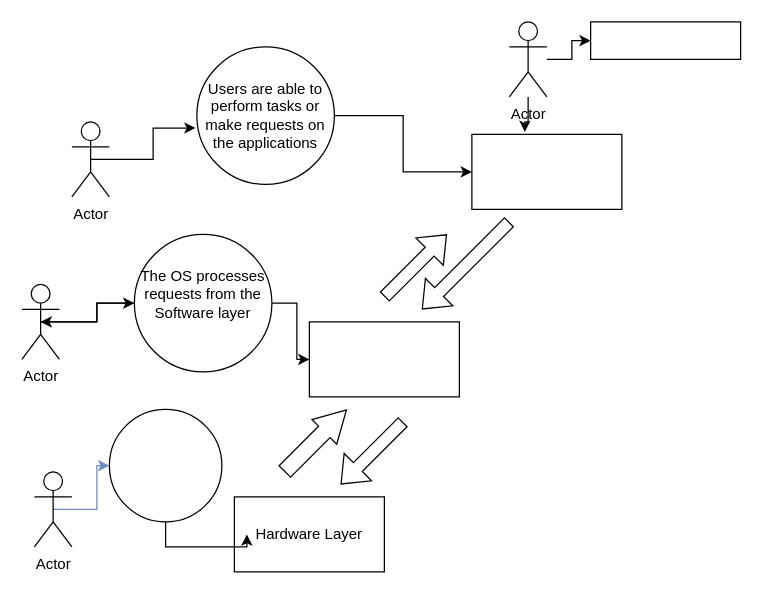
Image size: 763x595. Some labels were removed from this diagram. Here are the shapes that lost their labels. From the top down, the centre of each, then its label:
the point at 665,40: USER
the point at 546,171: Software Layer
the point at 383,359: Operating System OS
the point at 165,465: The hardware layer is where the data is stored
